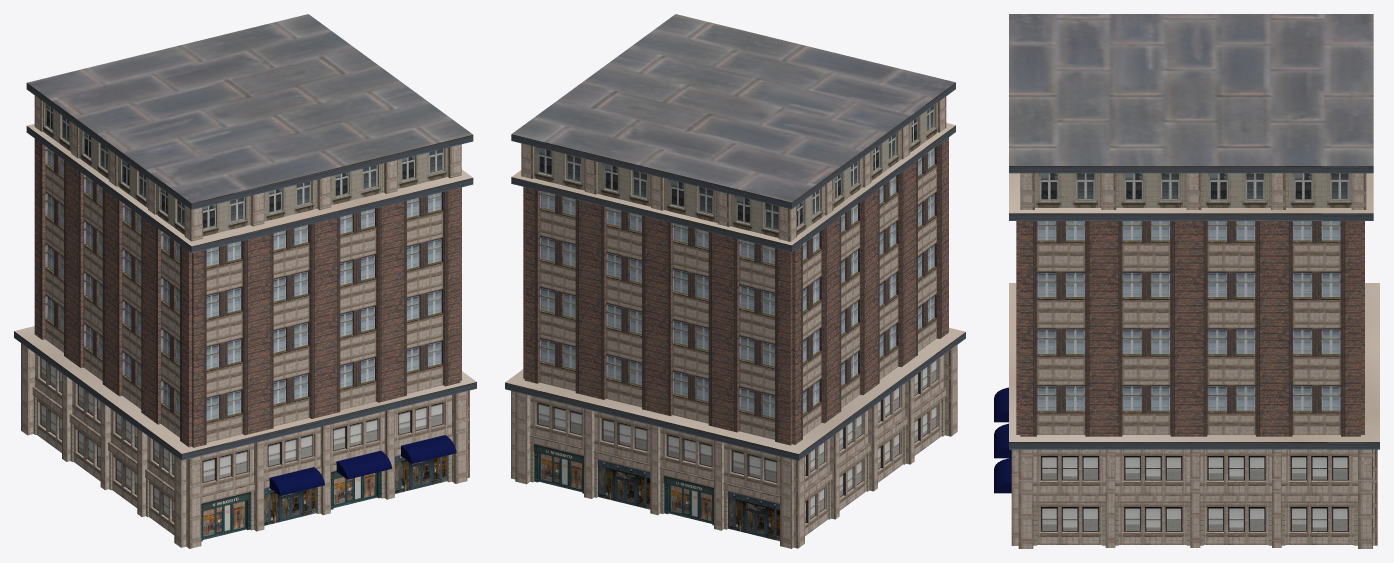
File: building3.fbx
The picture shows the model from 3 angles, left to right: view 1: azimuth 30°, elevation 25°; view 2: azimuth 150°, elevation 25°; view 3: azimuth 270°, elevation 25°; orthographic projection. The views are drawn at different scales.
Parts seen in each view (by area): view 1: Plane.007, Plane.019, Plane.018, Plane.006, Plane, atlas.008, Plane.008, Plane.009, Plane.014, atlas.025, atlas.001, Plane.005 (+17 smaller); view 2: Plane.017, Plane.019, Plane.018, Plane.015, Plane, atlas.024, Plane.008, Plane.009, Plane.014, atlas.025, Plane.012, Plane.013 (+17 smaller); view 3: Plane.016, Plane.019, Plane.010, Plane.011, atlas.023, Plane, Plane.008, Cube.005, Cube.009, atlas.012, atlas.010, Cube.007 (+16 smaller).
Part boxes in pixels (x1,y1,x2,y2): Plane.007: [192, 187, 460, 447]; Plane.019: [26, 14, 473, 209]; Plane.018: [34, 138, 191, 447]; Plane.006: [201, 395, 451, 495]; Plane: [14, 326, 476, 460]; atlas.008: [203, 148, 447, 236]; Plane.008: [26, 124, 473, 252]; Plane.009: [36, 398, 174, 534]; Plane.014: [35, 353, 174, 487]; atlas.025: [43, 101, 184, 234]; atlas.001: [201, 492, 250, 541]; Plane.005: [395, 455, 447, 493]; Plane.017: [524, 187, 792, 445]; Plane.019: [511, 14, 955, 209]; Plane.018: [792, 137, 948, 444]; Plane.015: [530, 395, 779, 495]; Plane: [505, 327, 965, 460]; atlas.024: [534, 146, 778, 237]; Plane.008: [511, 123, 955, 252]; Plane.009: [805, 400, 941, 535]; Plane.014: [805, 355, 943, 489]; atlas.025: [797, 102, 937, 235]; Plane.012: [597, 460, 650, 509]; Plane.013: [727, 491, 779, 541]; Plane.016: [1020, 221, 1360, 436]; Plane.019: [1009, 14, 1373, 173]; Plane.010: [1033, 449, 1357, 493]; Plane.011: [1037, 503, 1353, 544]; atlas.023: [1035, 173, 1351, 207]; Plane: [1009, 283, 1379, 449]; Plane.008: [1009, 173, 1373, 220]; Cube.005: [1018, 449, 1033, 548]; Cube.009: [1358, 449, 1372, 548]; atlas.012: [1281, 493, 1357, 545]; atlas.010: [1115, 493, 1190, 545]; Cube.007: [1190, 449, 1200, 547].
Size of the model in its own units: 252 by 283 by 258.
Materials: 1 (1 with a texture image).
